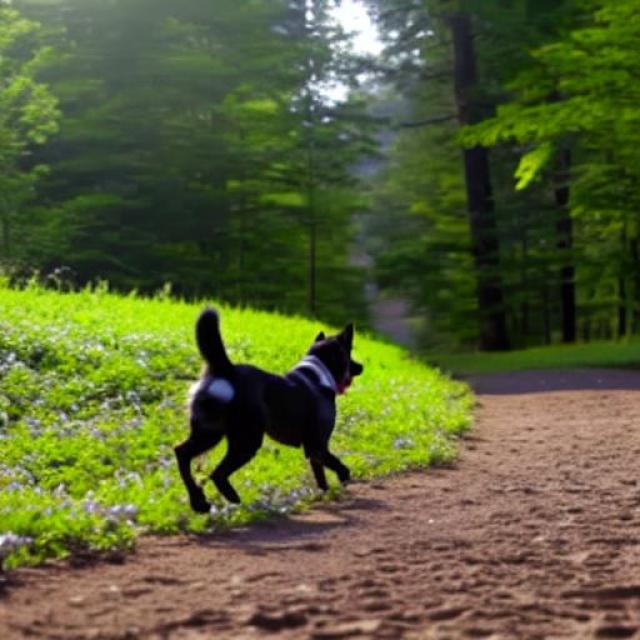Dog: (173, 308, 363, 514)
